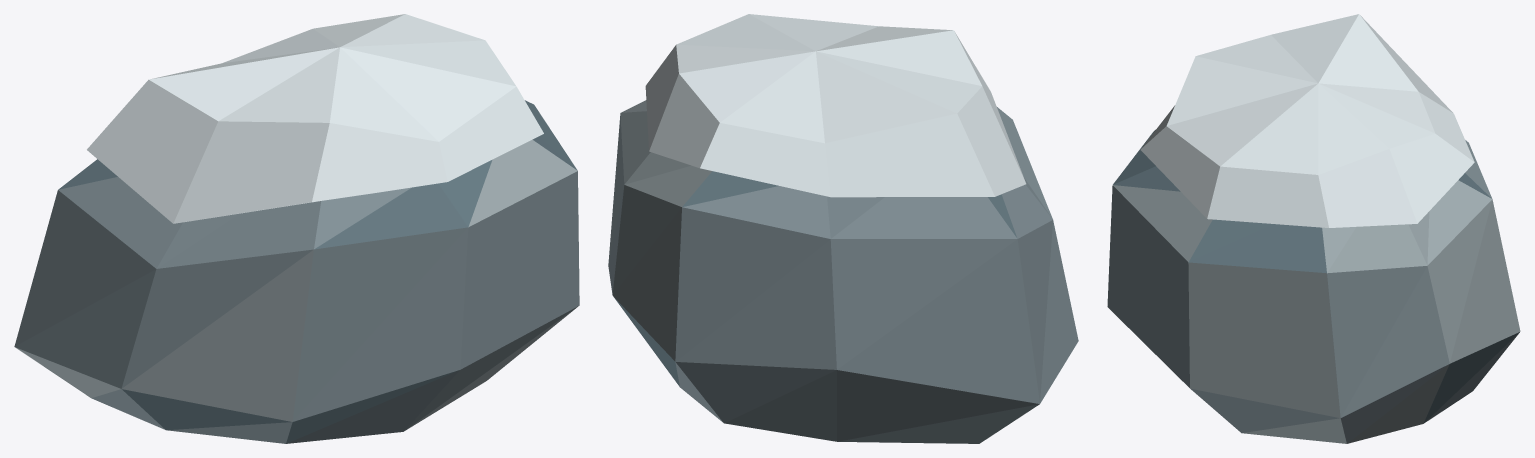
The model's file is ROCK_01_SmallSnowy.glb.
The picture shows the model from 3 angles, left to right: view 1: azimuth 30°, elevation 25°; view 2: azimuth 150°, elevation 25°; view 3: azimuth 270°, elevation 25°; orthographic projection. The views are drawn at different scales.
Visible parts, largest first — view 1: ROCK_01_SmallSnowy; view 2: ROCK_01_SmallSnowy; view 3: ROCK_01_SmallSnowy.
Part boxes in pixels (x1,y1,x2,y2): ROCK_01_SmallSnowy: (14, 14, 579, 443); ROCK_01_SmallSnowy: (608, 14, 1078, 443); ROCK_01_SmallSnowy: (1107, 14, 1520, 443).
Bounding box in the file's own units: 1.19 × 0.775 × 0.9586.
